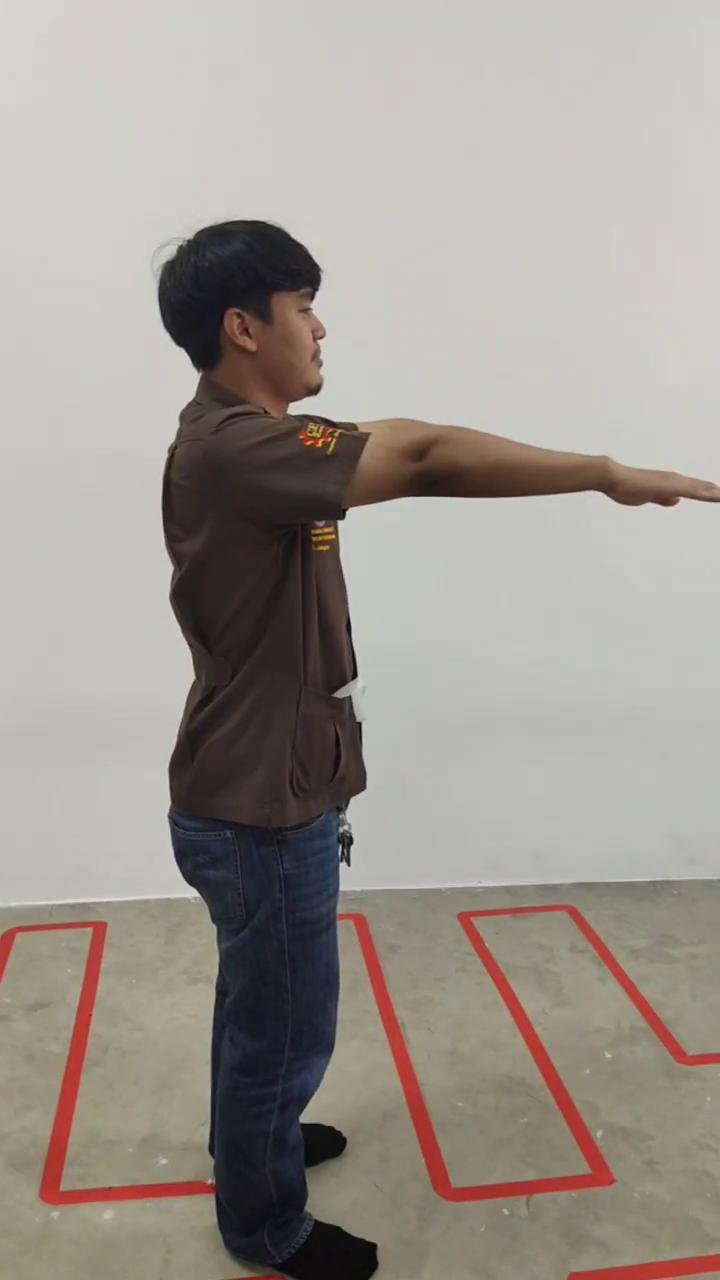squat up: (158, 220, 718, 1280)
